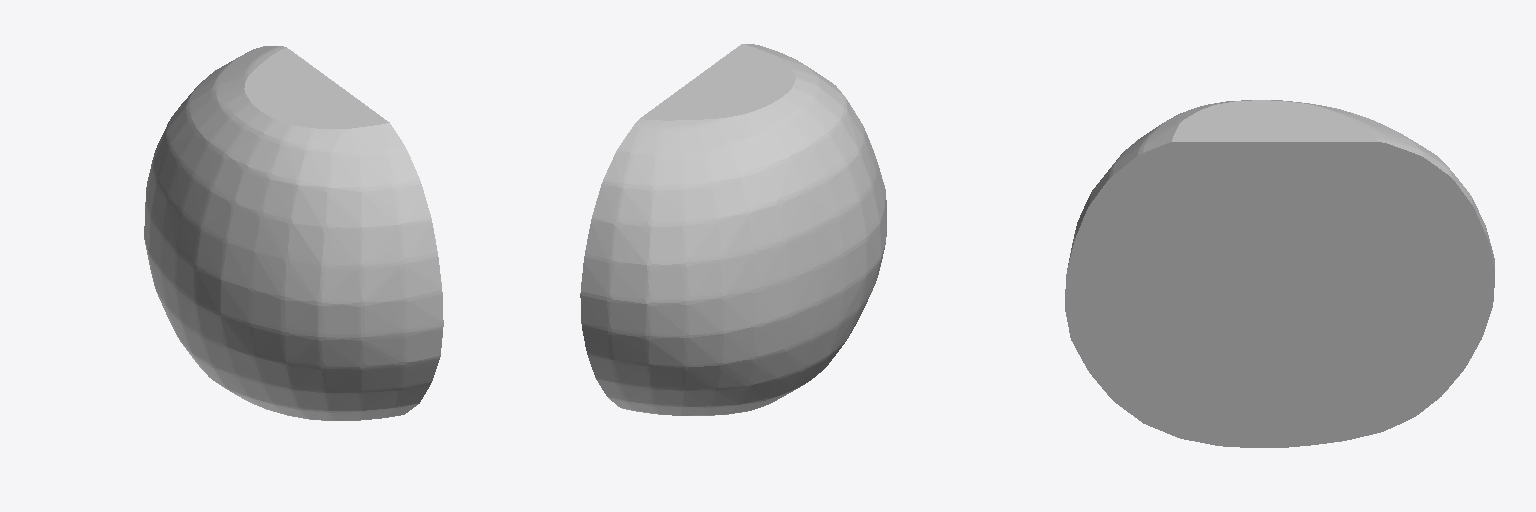
The model's file is Tomato_19_collision_0.obj.
The picture shows the model from 3 angles: view 1: azimuth 30°, elevation 25°; view 2: azimuth 150°, elevation 25°; view 3: azimuth 270°, elevation 25°; orthographic projection.
Size of the model in its own units: 0.0527 by 0.0966 by 0.123.